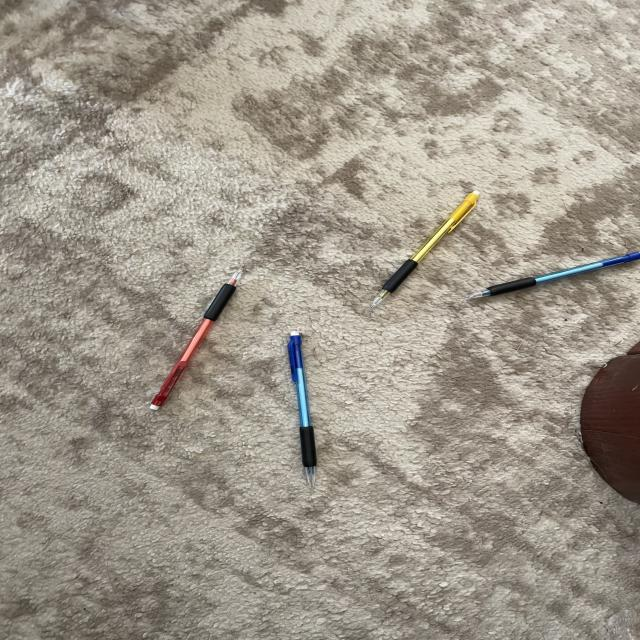mechanical-pencils: (149, 268, 249, 418), (371, 189, 481, 307), (466, 244, 638, 307), (288, 333, 318, 476)
